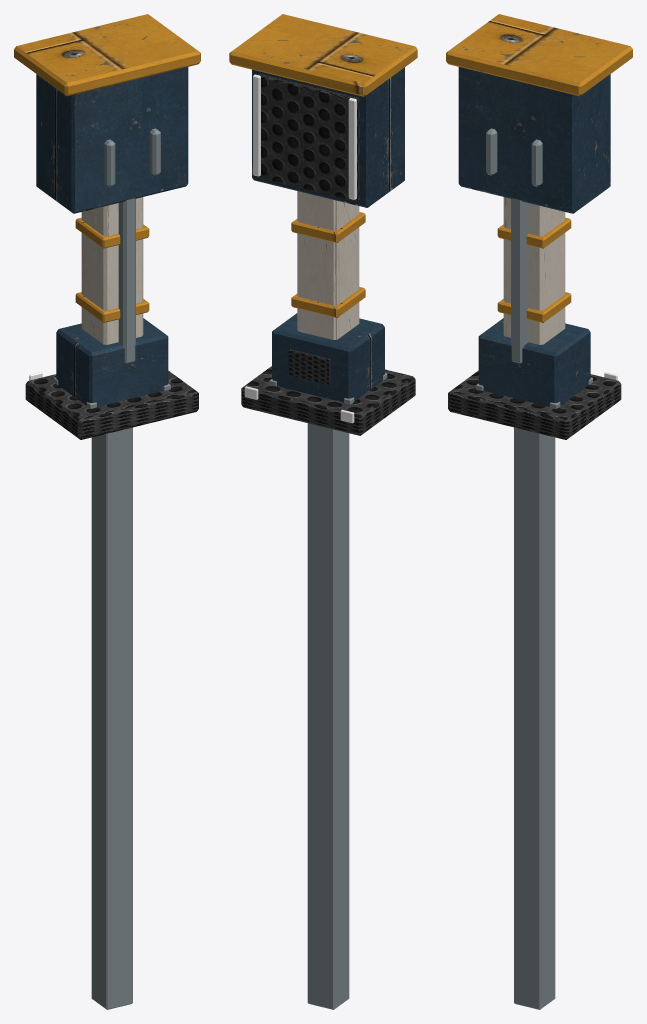
The model's file is timing-kit.glb.
3 views of the same model, side by side, from view 1: azimuth 30°, elevation 25°; view 2: azimuth 150°, elevation 25°; view 3: azimuth 330°, elevation 25° (orthographic).
Parts seen in each view (by area): view 1: timing_shell, timing_metal; view 2: timing_shell, timing_metal, timing_lens; view 3: timing_shell, timing_metal.
Part boxes in pixels (left/top/right/bottom): timing_shell: left=14, top=14, right=200, bottom=439; timing_metal: left=54, top=128, right=170, bottom=1009; timing_shell: left=229, top=14, right=417, bottom=435; timing_metal: left=269, top=372, right=387, bottom=1009; timing_lens: left=244, top=74, right=356, bottom=423; timing_shell: left=446, top=14, right=632, bottom=439; timing_metal: left=476, top=128, right=592, bottom=1009.
Size of the model in its own units: 1.92 by 12.77 by 1.44.
Materials: 3 (1 with a texture image).
